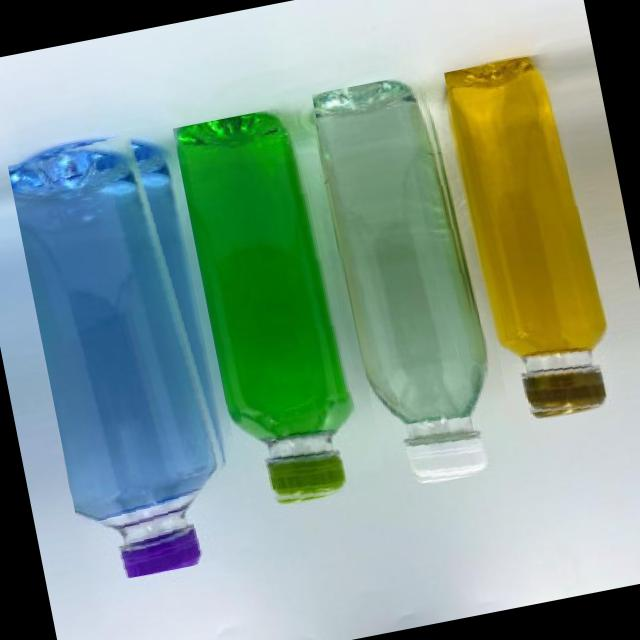plastic bottle: (5, 126, 248, 585), (172, 103, 374, 515), (311, 71, 506, 493), (442, 50, 624, 425)
